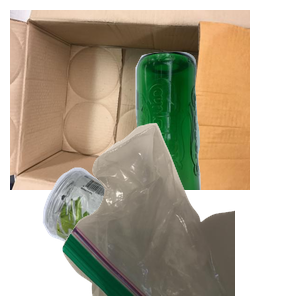cardboard: (10, 10, 250, 190)
glass: (129, 49, 300, 229)
plastic: (40, 165, 235, 300)
trash: (60, 120, 300, 300)
